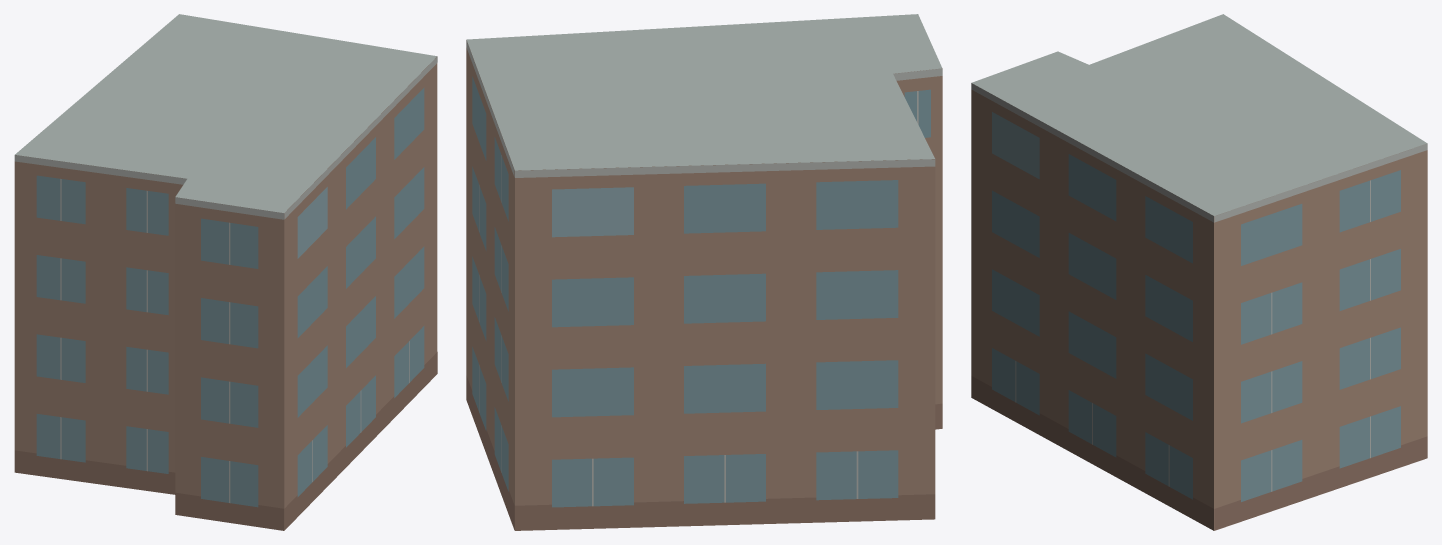
Rendered from survey-upis-32929960.glb.
3 views of the same model, side by side, from view 1: azimuth 30°, elevation 25°; view 2: azimuth 150°, elevation 25°; view 3: azimuth 270°, elevation 25° (orthographic). The views are drawn at different scales.
Parts seen in each view (by area): view 1: survey-upis-32929960.tmp; view 2: survey-upis-32929960.tmp; view 3: survey-upis-32929960.tmp.
Part boxes in pixels (x1,y1,x2,y2): survey-upis-32929960.tmp: (14, 14, 437, 530); survey-upis-32929960.tmp: (466, 14, 942, 530); survey-upis-32929960.tmp: (971, 14, 1427, 530).
Bounding box in the file's own units: 16.12 × 11.7 × 15.38.
